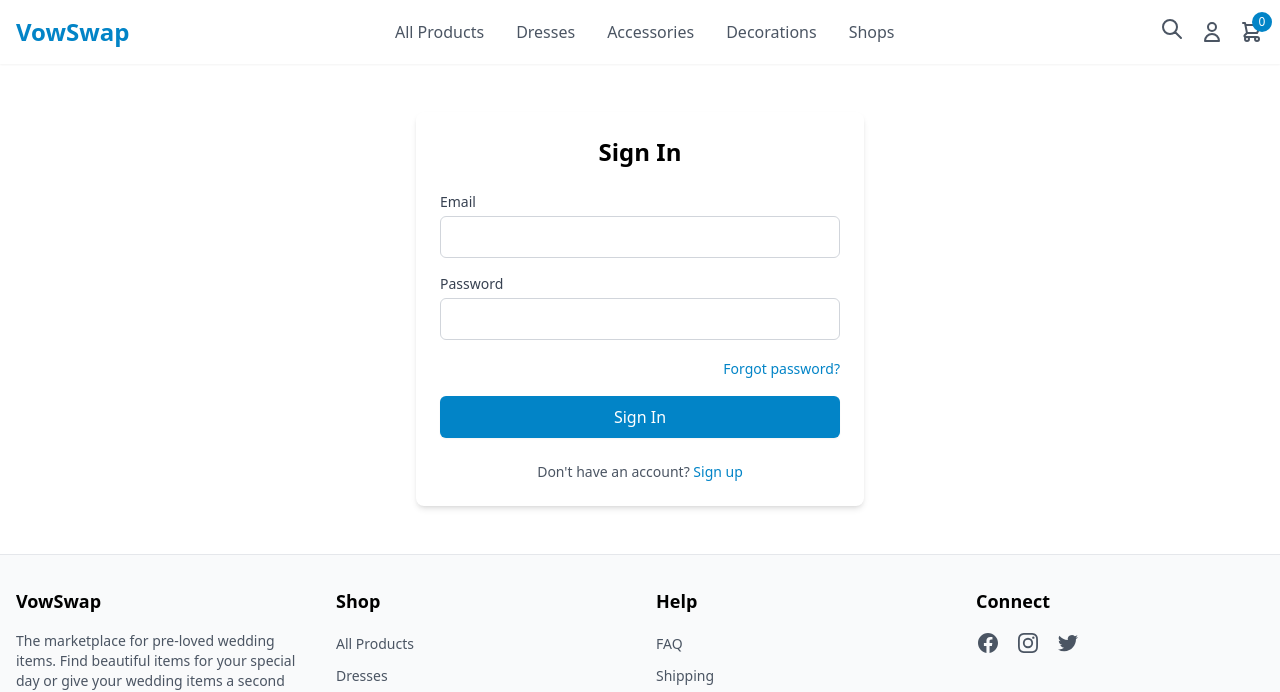
Scenario: Authentication Flow › should show error message for invalid credentials
The width and height of the screenshot is (1280, 692).
Type "wrong@example.com" into the field named "email". click: (640, 237)
box: [440,216,840,258]
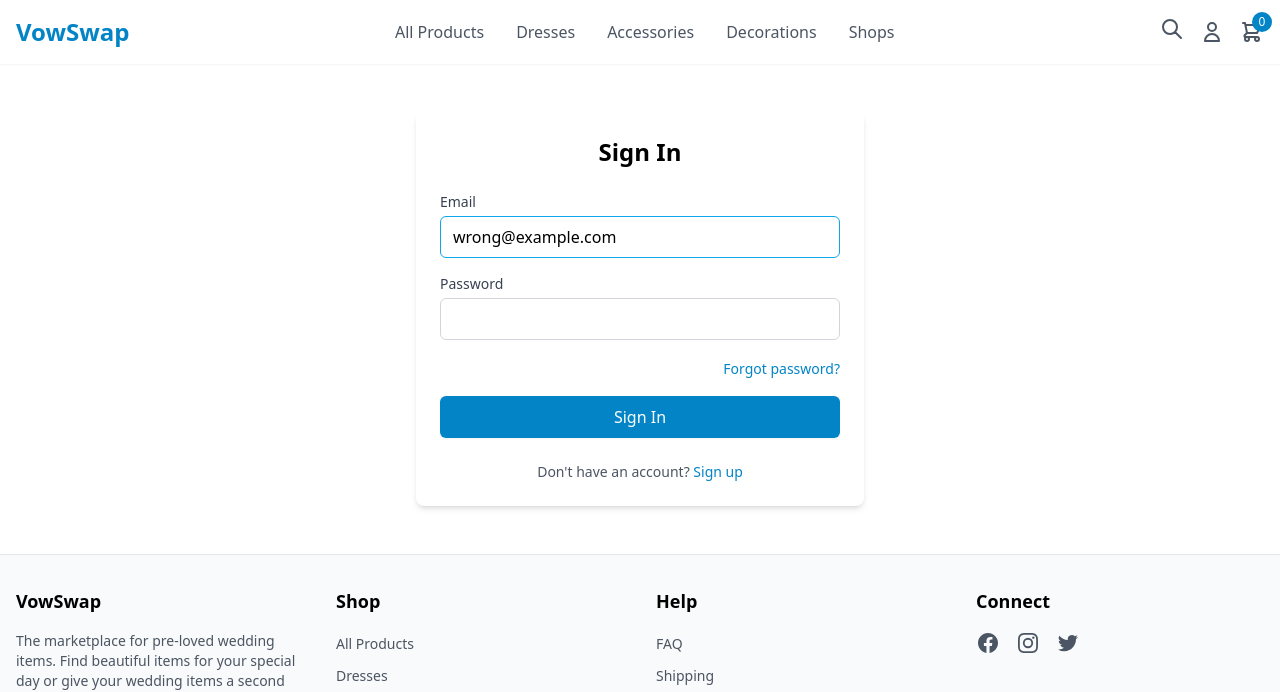
Type "WrongPassword123!" into the password field named "password". click: (640, 319)
box: [440,298,840,340]
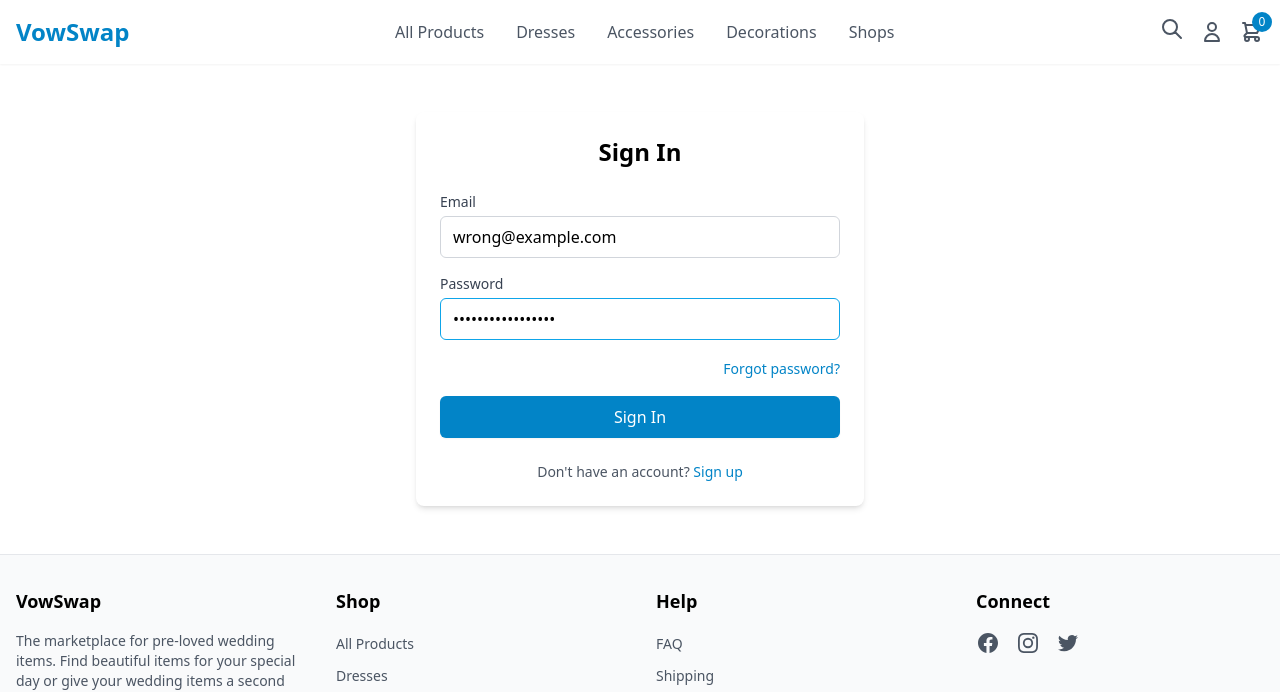
Click the submit button. click: (640, 417)
box: [440,396,840,438]
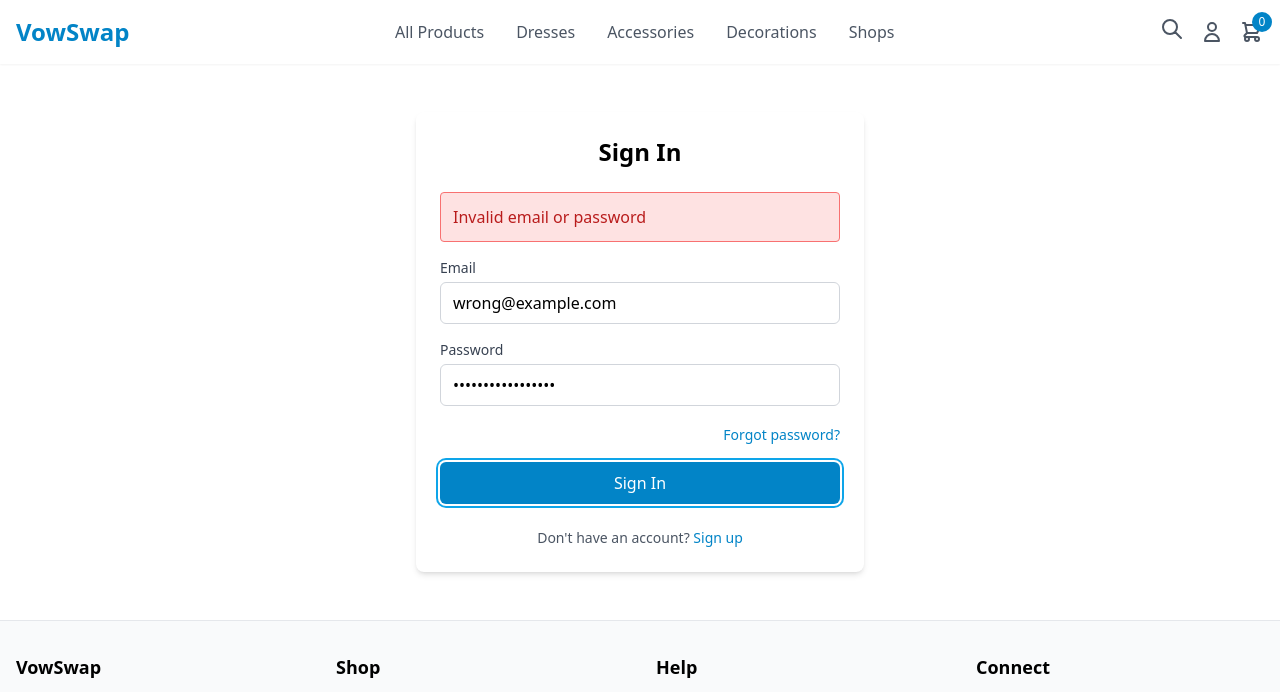
Check: the text "Invalid email or password" is shown, box [440,192,840,242]
